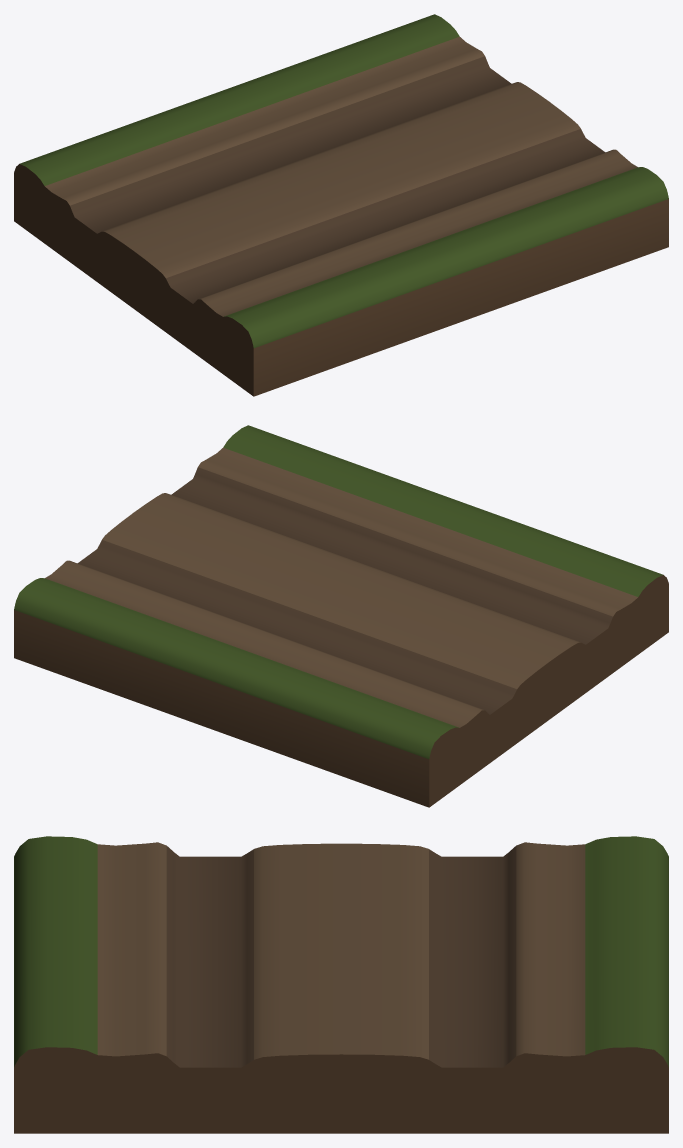
3 views of the same model, one above another, from view 1: azimuth 30°, elevation 25°; view 2: azimuth 150°, elevation 25°; view 3: azimuth 270°, elevation 25° (orthographic). The views are drawn at different scales.
Parts seen in each view (by area): view 1: b0o; view 2: b0o; view 3: b0o.
Part boxes in pixels (x1,y1,x2,y2): b0o: [14, 14, 668, 396]; b0o: [14, 425, 668, 807]; b0o: [14, 836, 668, 1133].
Bounding box in the file's own units: 9 × 2.31 × 9.
